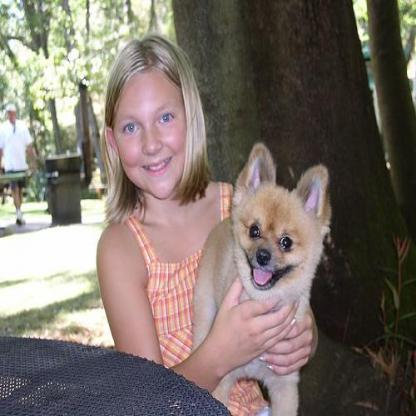Pomeranian: (192, 142, 329, 414)
